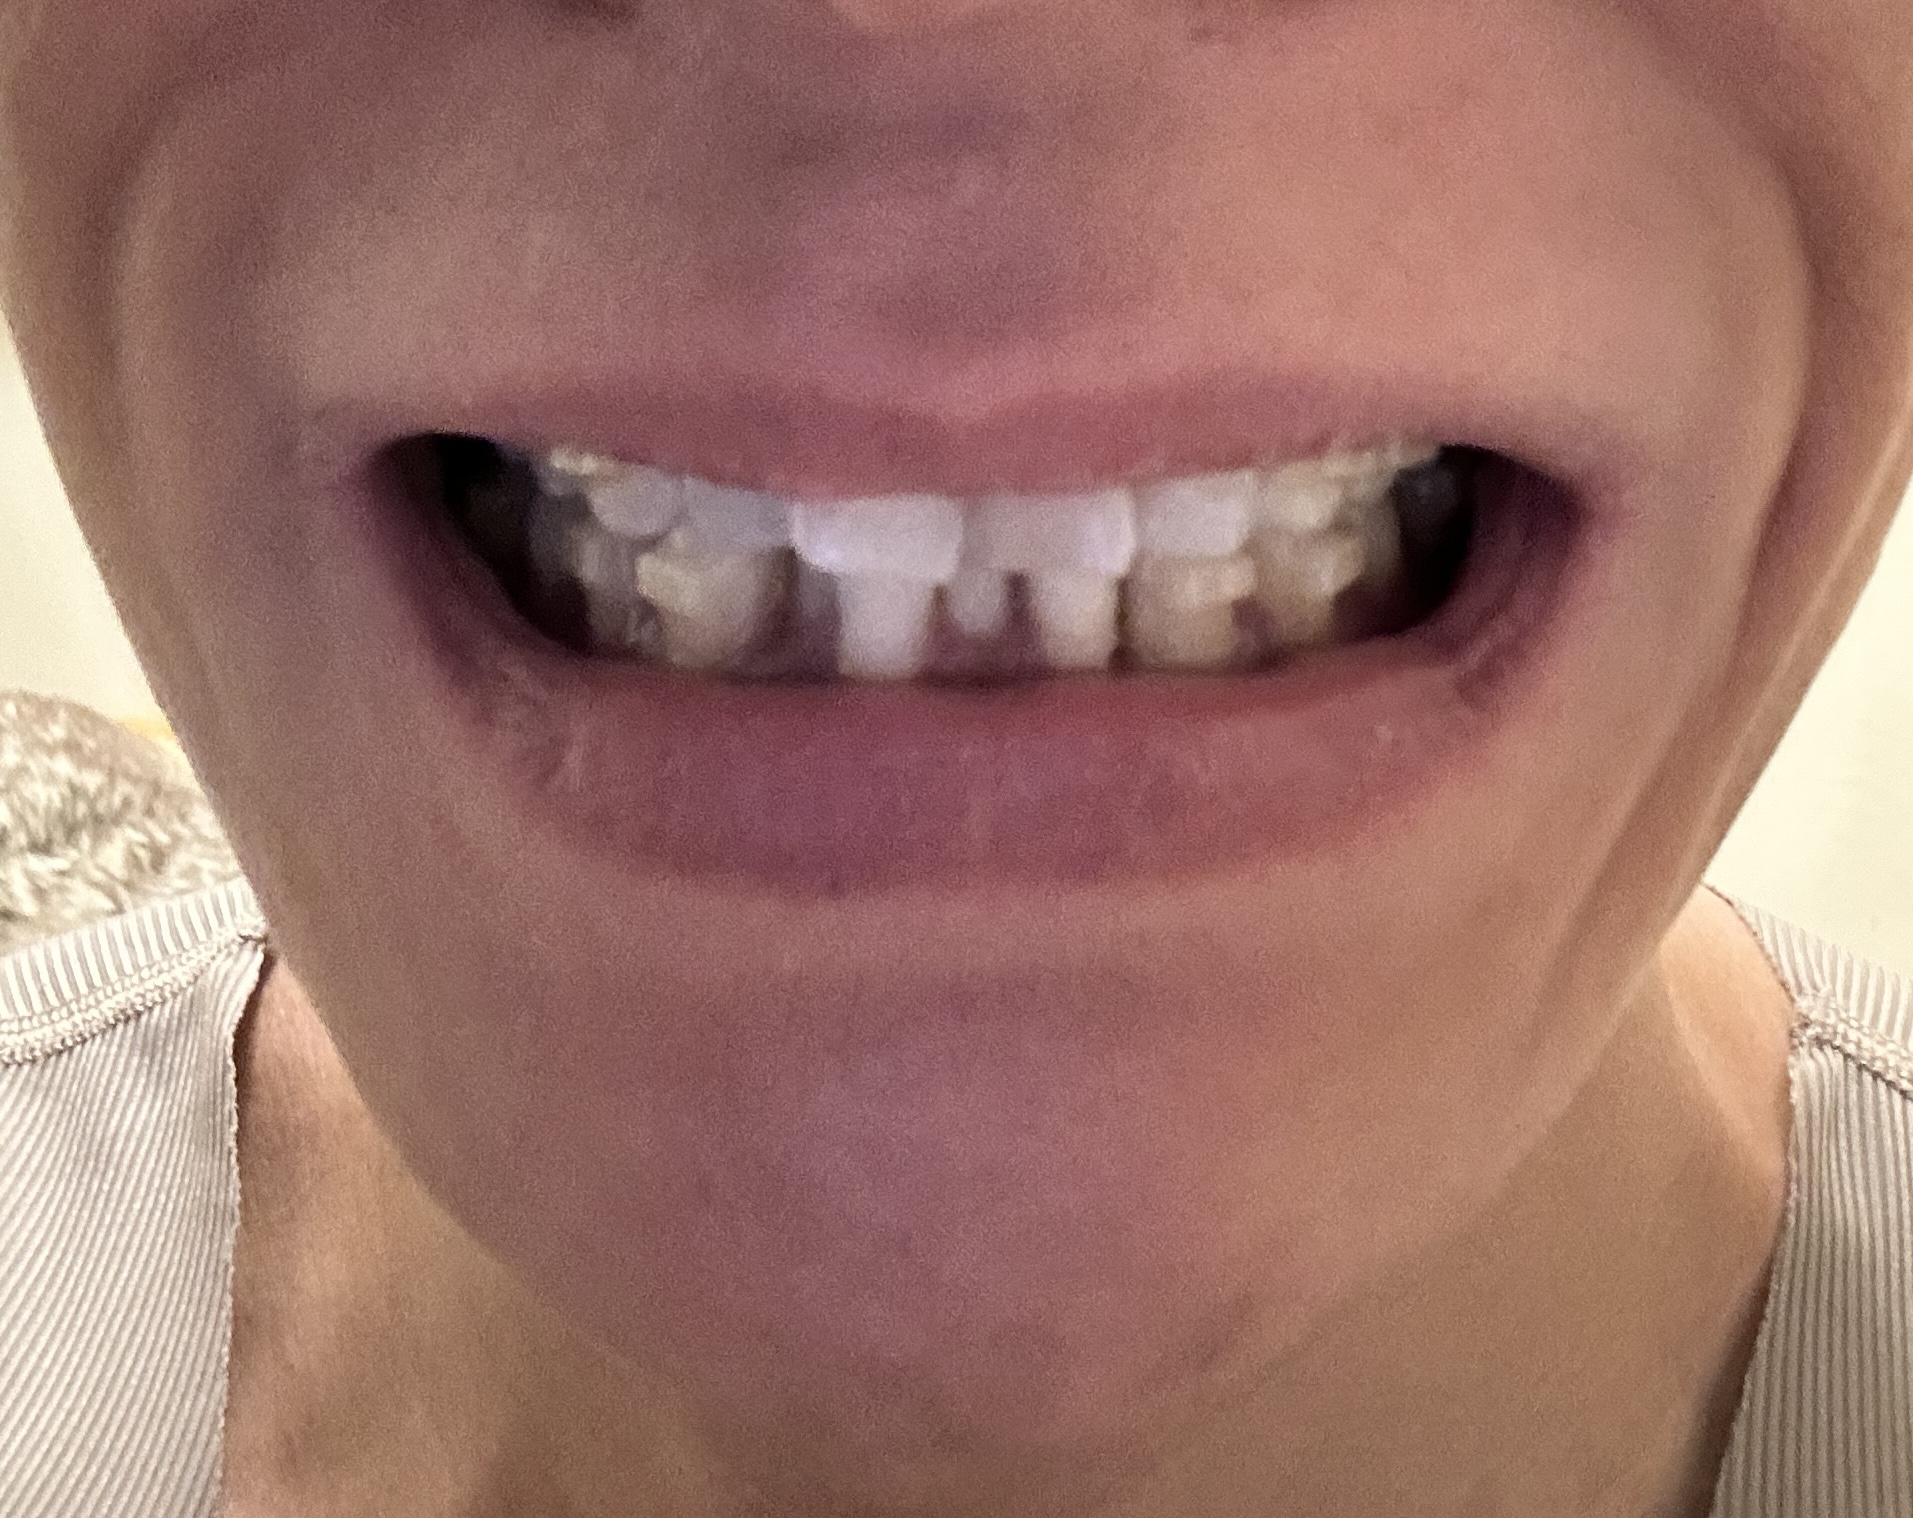teeth: (984, 497, 1127, 577), (807, 500, 956, 571), (1152, 551, 1234, 660), (1158, 477, 1255, 553), (843, 582, 916, 677)
